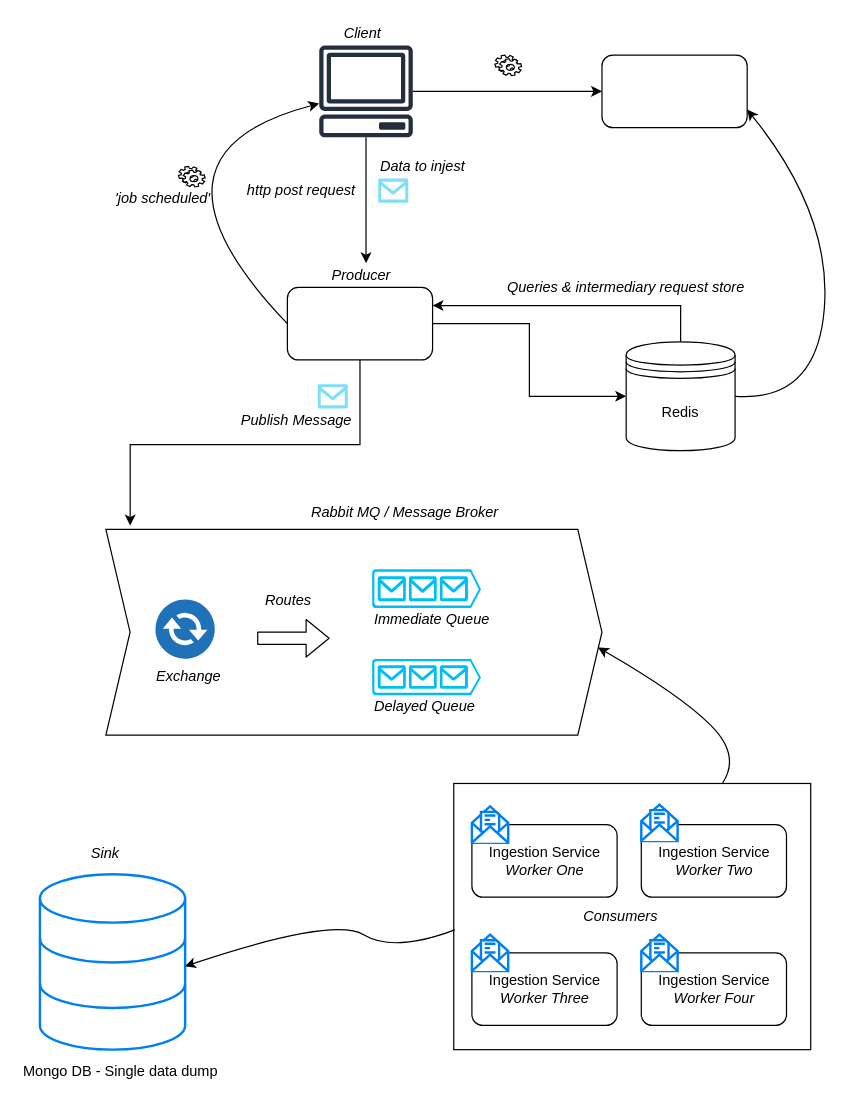
The diagram is 846 pixels wide and 1104 high, and some of its shapes have lost their labels. The shapes that lost their labels are listed below. From the top down, each one's centre as x and y in pixels, then its label:
At [674,91]: "Job Lookup API".
At [359,323]: "Ingestion Controller / API Gateway".
